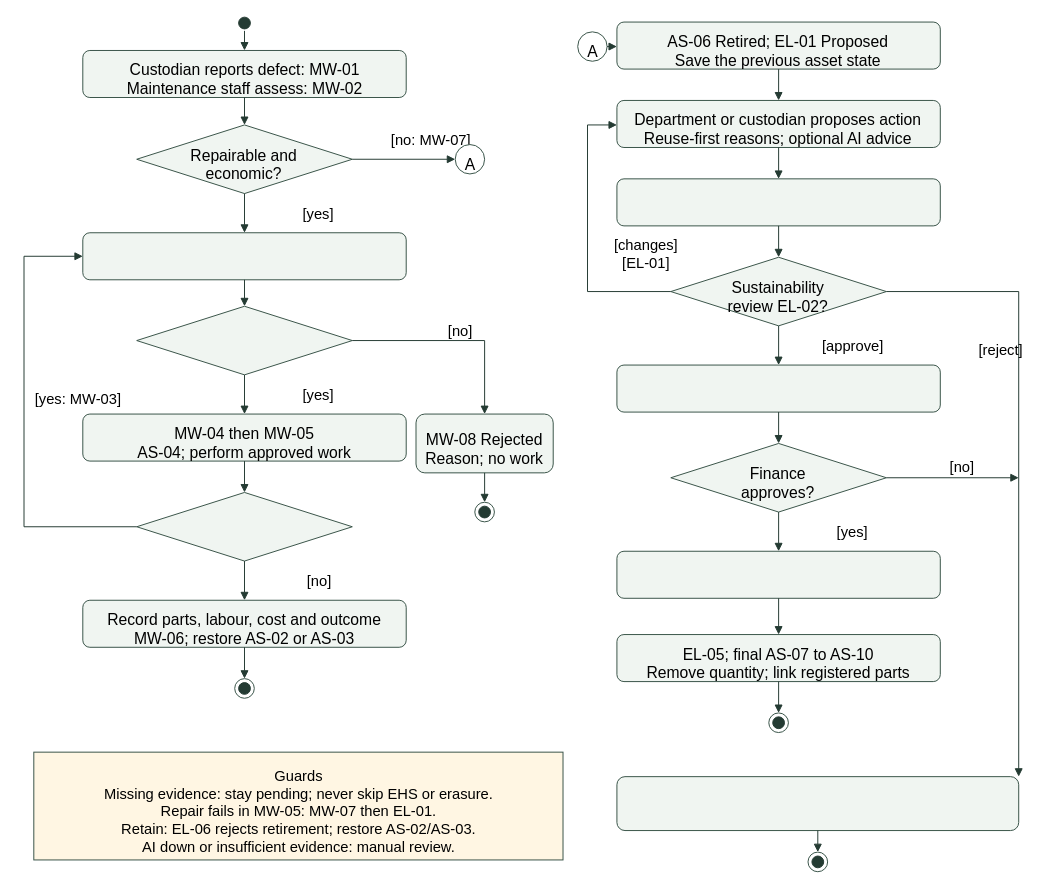
Some shapes in this 1051 by 889 pixel diagram are drawn without their labels. The centre of each missing label's shape, as x and y in pixels:
"Cost exceeds approval?" belongs at (x=244, y=526).
"Costs approved?" belongs at (x=244, y=340).
"EL-04; carry out approved action Custodian records completion evidence" belongs at (x=778, y=574).
"EL-06; reason; restore previous state No action authorised; notify reviewers" belongs at (x=817, y=803).
"Finance write-off review EL-03 Independent approval required" belongs at (x=778, y=388).
"Record plan and estimate: MW-03 Department and conditional Finance review" belongs at (x=244, y=256).
"Supply special-handling/EHS evidence Data-erasure evidence where required" belongs at (x=778, y=202).
